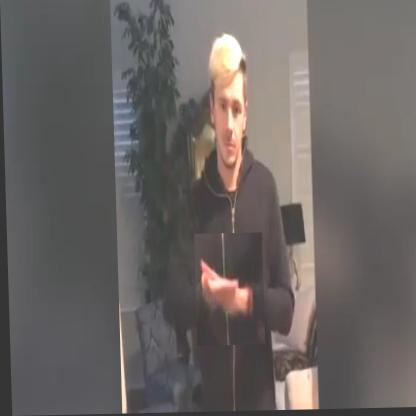NiceToMeetYou: (193, 234, 263, 347)
